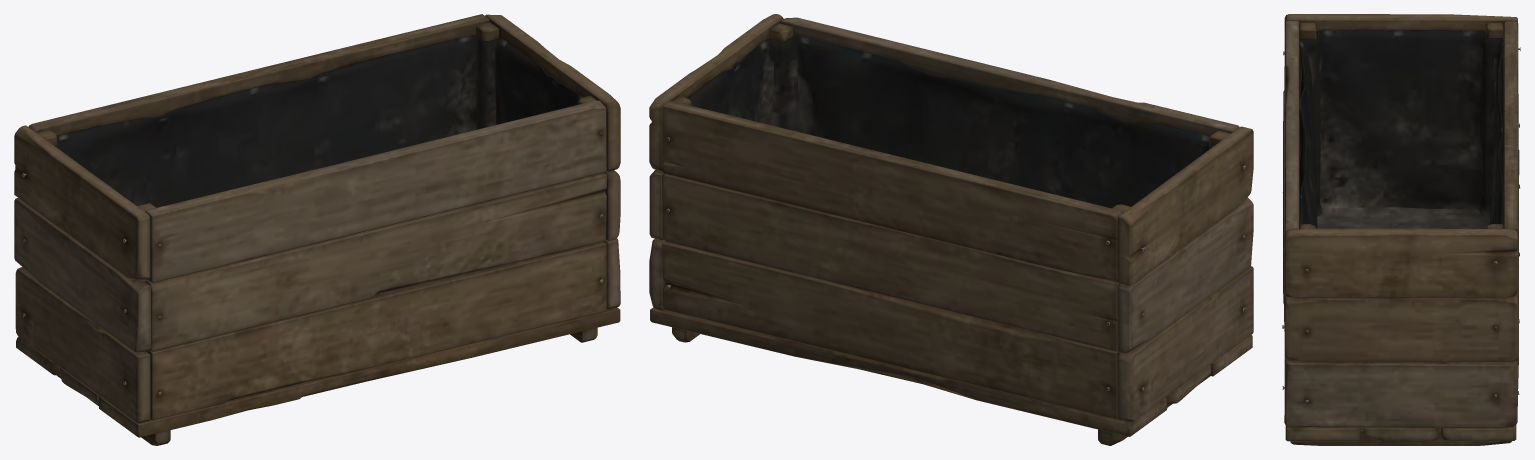
File: planter_box_01.glb
The picture shows the model from 3 angles, left to right: view 1: azimuth 30°, elevation 25°; view 2: azimuth 150°, elevation 25°; view 3: azimuth 270°, elevation 25°; orthographic projection. The views are drawn at different scales.
Parts seen in each view (by area): view 1: planter_box_01; view 2: planter_box_01; view 3: planter_box_01.
Boxes of the visible parts, x1,y1,x2,y2 form: planter_box_01: (14, 14, 620, 445); planter_box_01: (649, 14, 1253, 445); planter_box_01: (1282, 14, 1520, 445).
Bounding box in the file's own units: 0.9126 × 0.4249 × 0.4137.
Materials: 1 (1 with a texture image).
